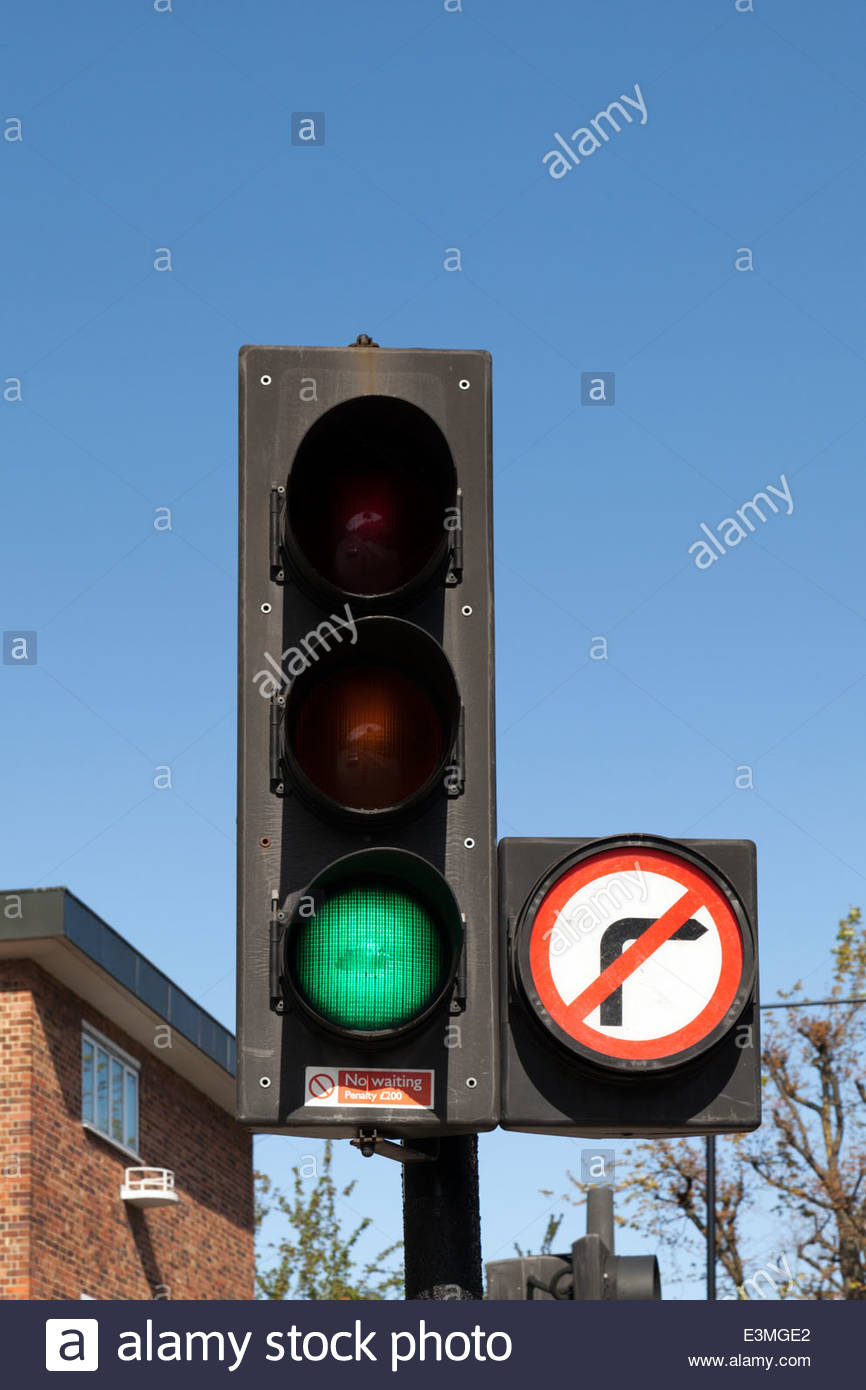No_right_turn: (529, 852, 747, 1059)
